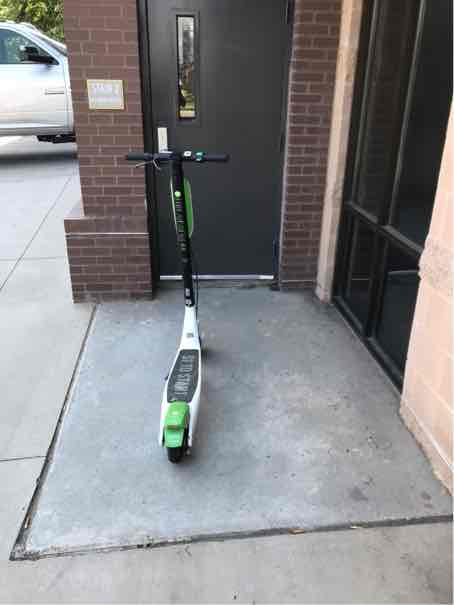scooter: (118, 140, 234, 470)
